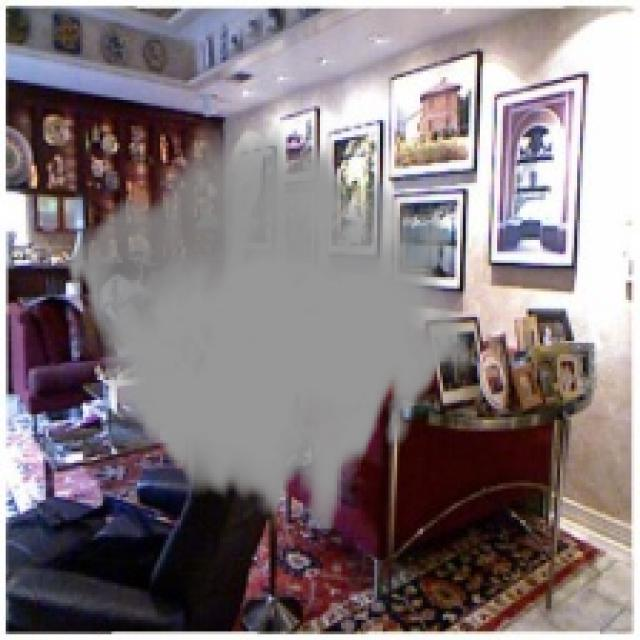smoke: (66, 120, 471, 529)
